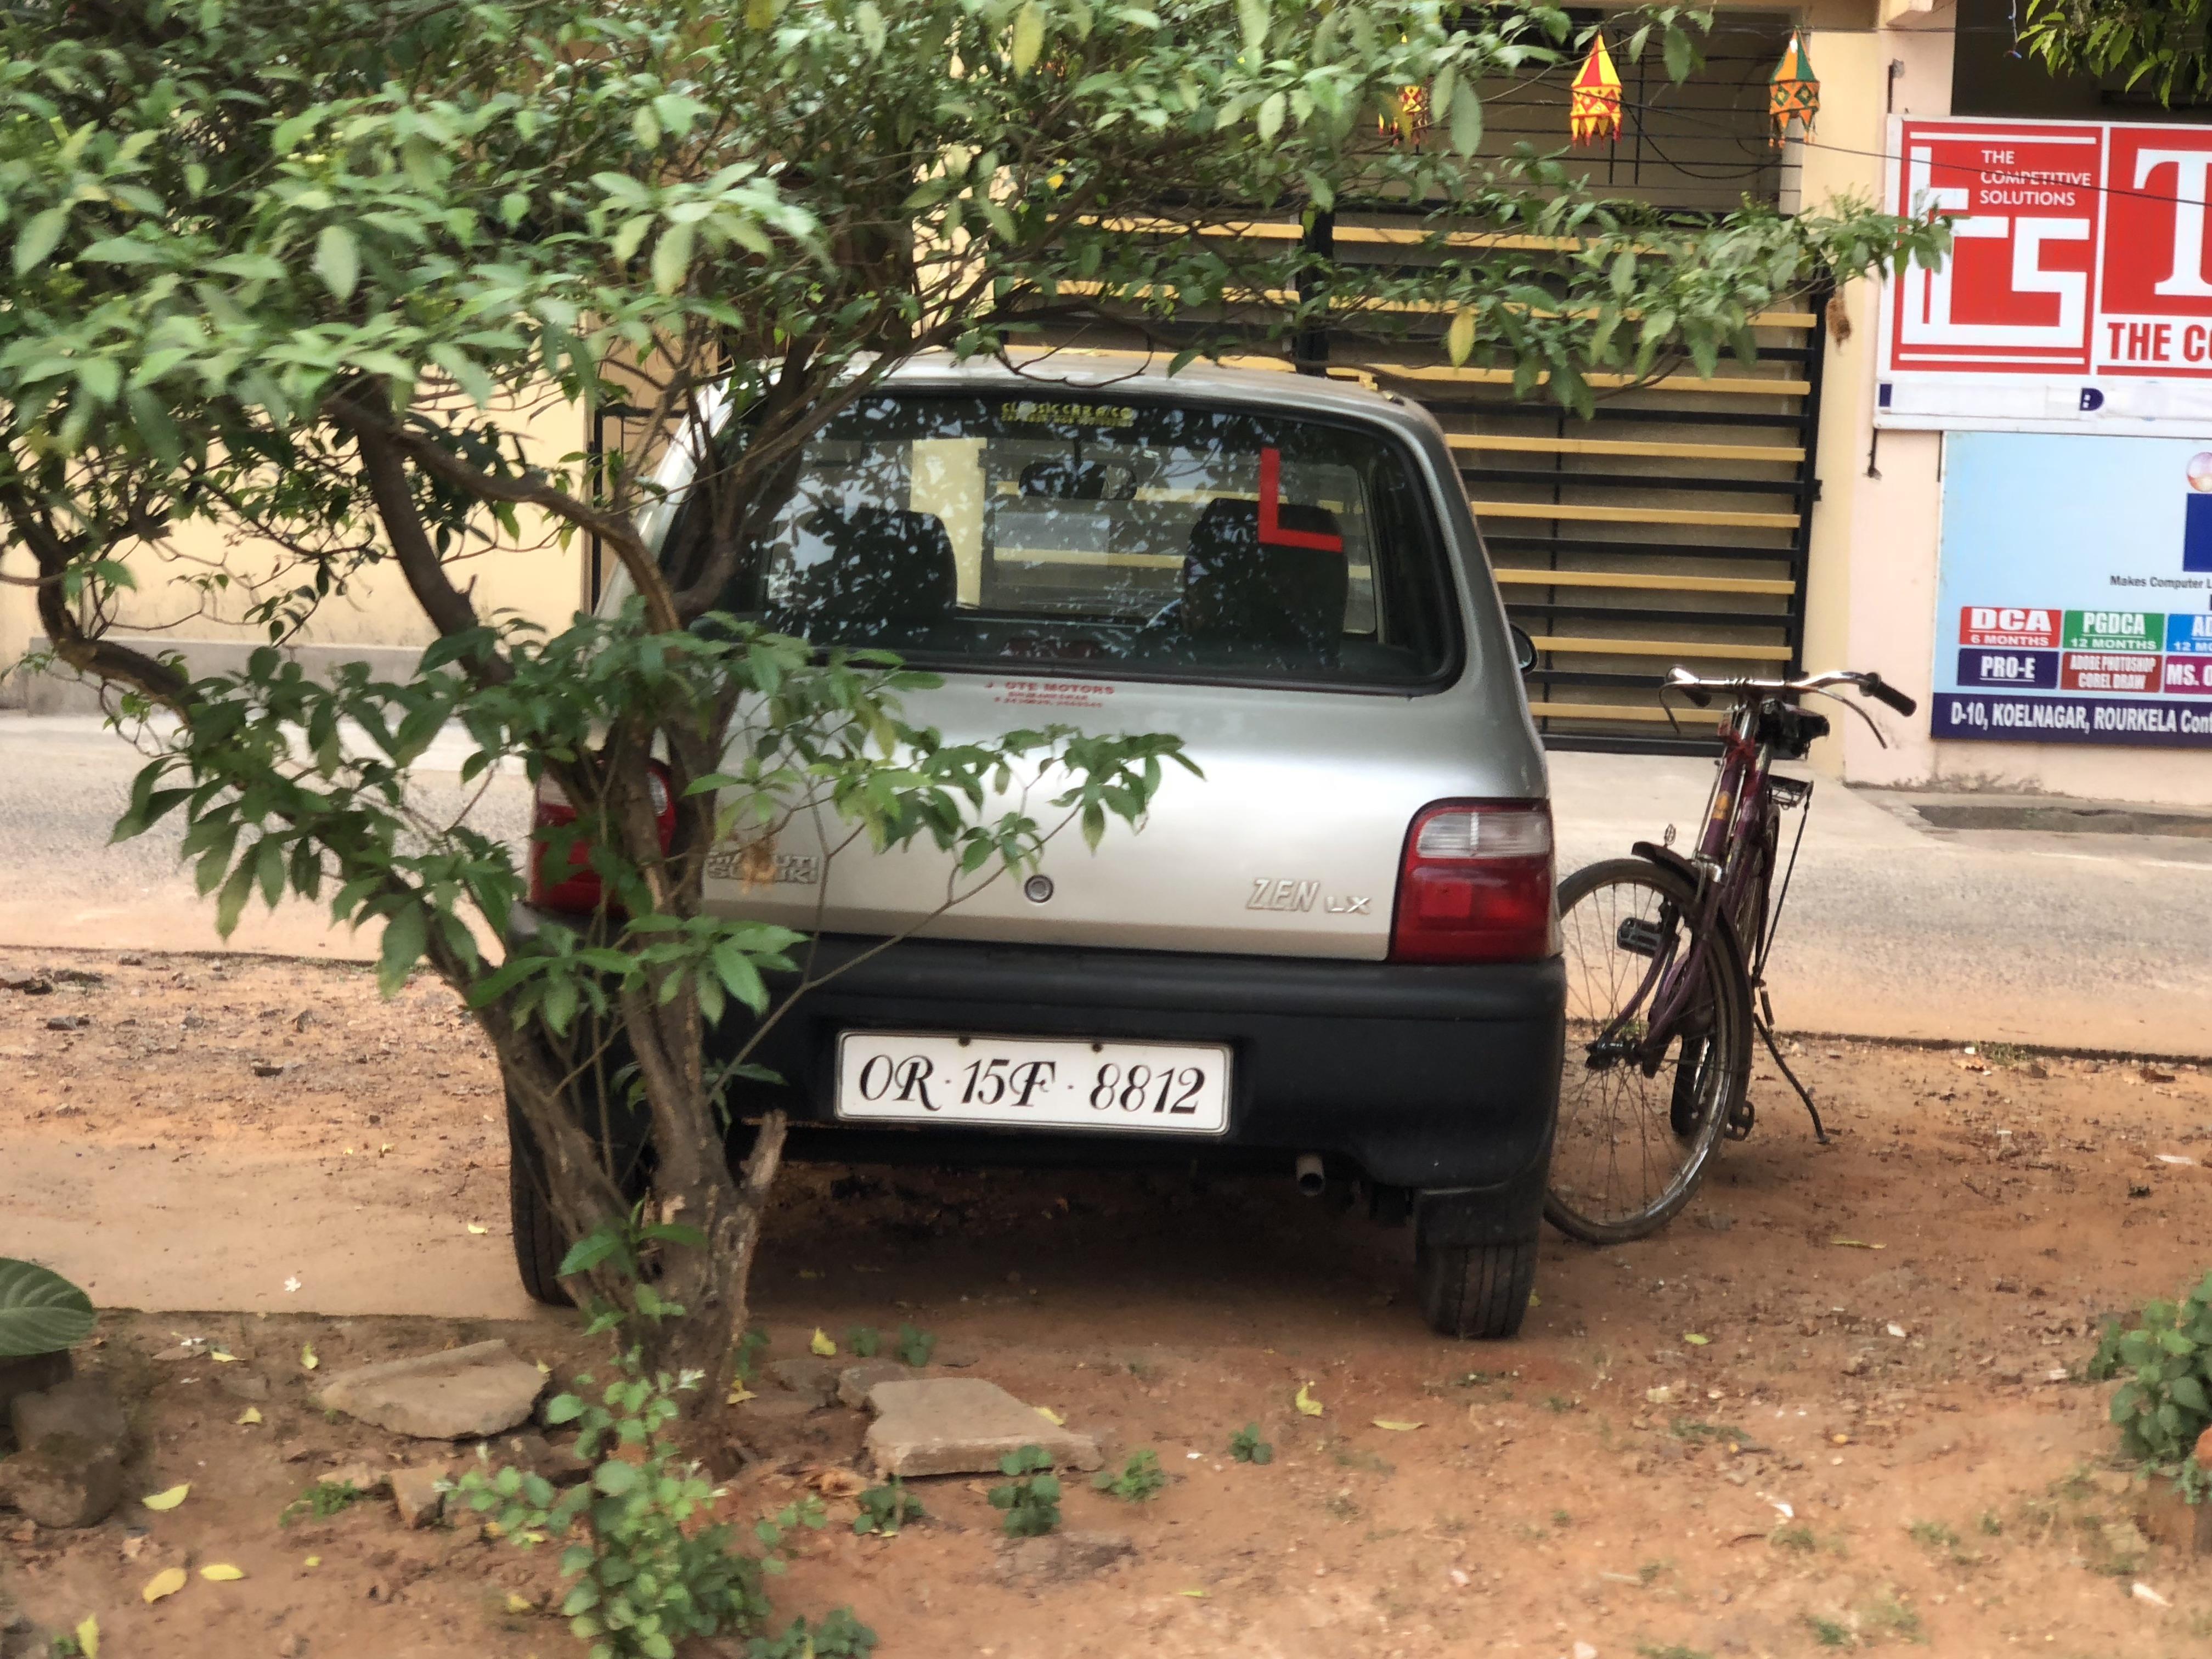licenseplate: (833, 1015, 1235, 1150)
